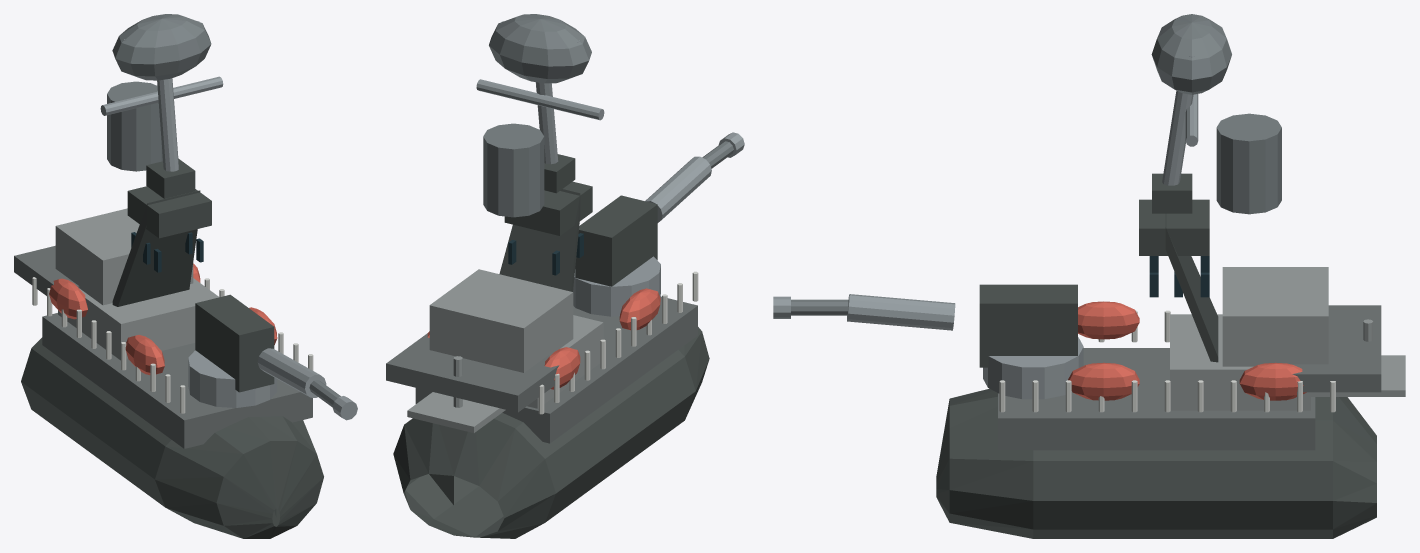
Rendered from korvet-kelas-diponegoro.glb.
The picture shows the model from 3 angles, left to right: view 1: azimuth 30°, elevation 25°; view 2: azimuth 150°, elevation 25°; view 3: azimuth 270°, elevation 25°; orthographic projection. The views are drawn at different scales.
Visible parts, largest first — view 1: korvet-kelas-diponegoro; view 2: korvet-kelas-diponegoro; view 3: korvet-kelas-diponegoro.
Part boxes in pixels (x1,y1,x2,y2): korvet-kelas-diponegoro: (14,14,357,538); korvet-kelas-diponegoro: (386,14,744,538); korvet-kelas-diponegoro: (773,14,1405,538).
Size of the model in its own units: 0.8 by 2.21 by 2.51.
